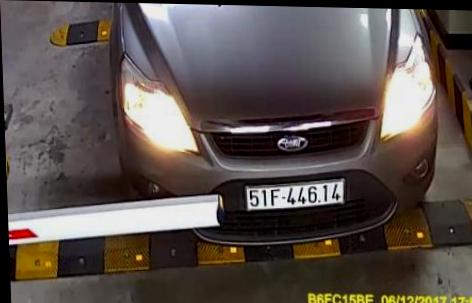License_Plate: (240, 174, 353, 216)
